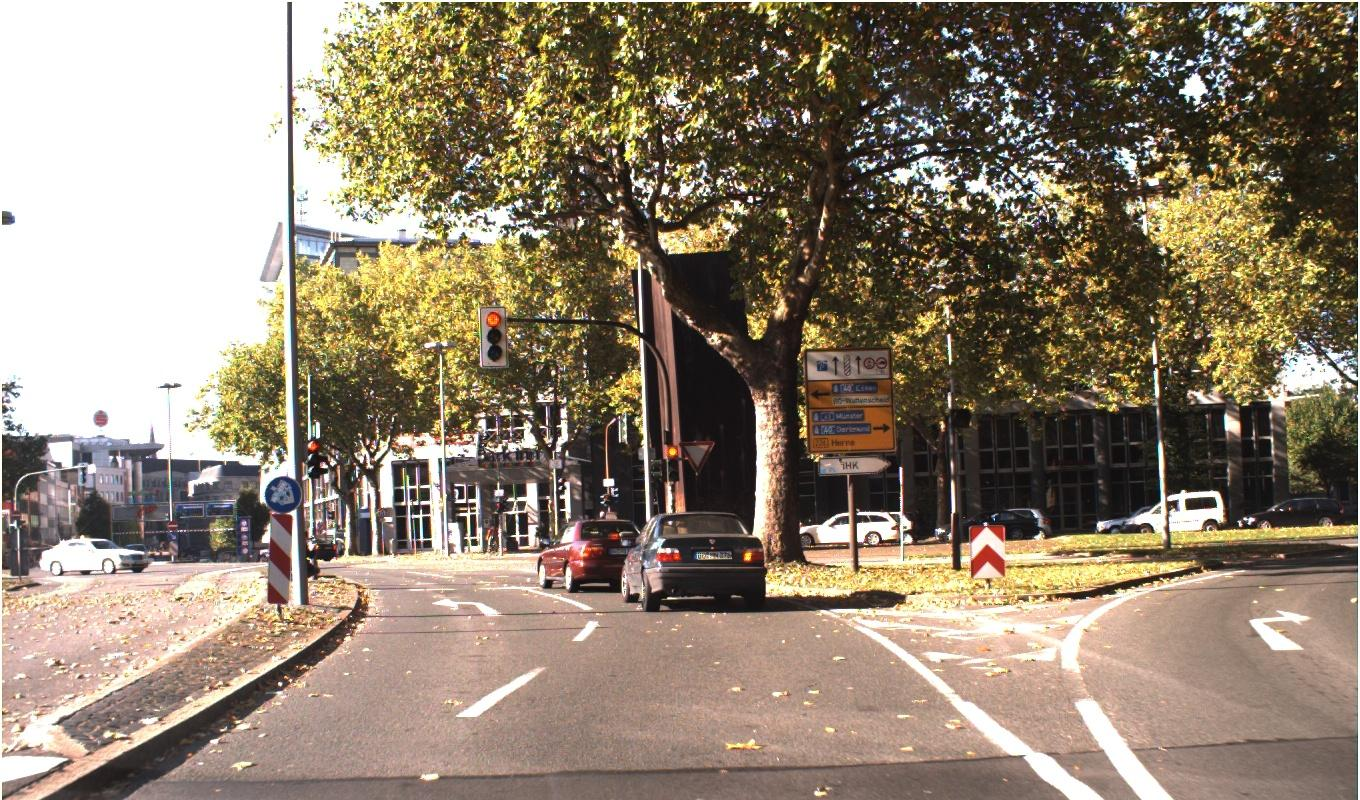keep right: (264, 439, 714, 514)
